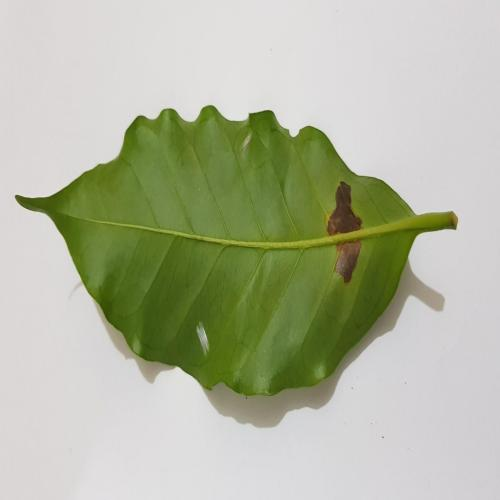leaf: (326, 181, 362, 286)
